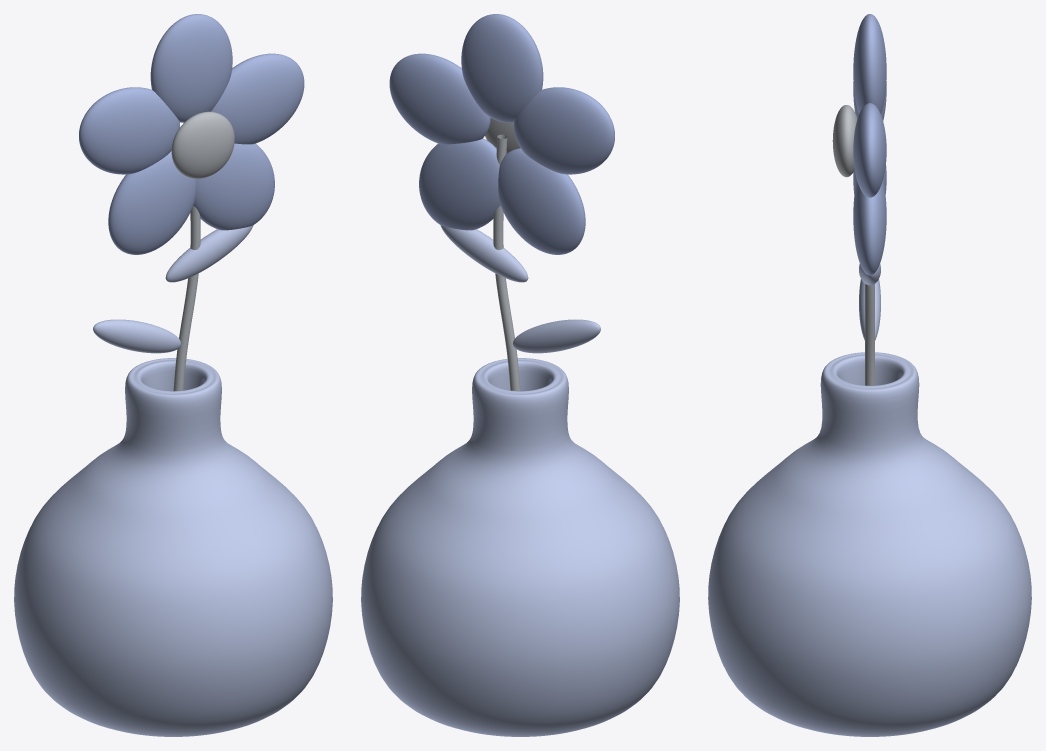
File: flower-vase.glb
The picture shows the model from 3 angles, left to right: view 1: azimuth 30°, elevation 25°; view 2: azimuth 150°, elevation 25°; view 3: azimuth 270°, elevation 25°; orthographic projection.
Parts seen in each view (by area): view 1: sculpted-surface, stem-and-leaves-/-curved-ceramic-petals-/-flower-center-009, stem-and-leaves-/-curved-ceramic-petals-/-flower-center-005, stem-and-leaves-/-curved-ceramic-petals-/-flower-center-008, stem-and-leaves-/-curved-ceramic-petals-/-flower-center-006, stem-and-leaves-/-curved-ceramic-petals-/-flower-center-007, stem-and-leaves-/-curved-ceramic-petals-/-flower-center-010, stem-and-leaves-/-curved-ceramic-petals-/-flower-center-003, stem-and-leaves-/-curved-ceramic-petals-/-flower-center-004, stem-and-leaves-/-curved-ceramic-petals-/-flower-center-002; view 2: sculpted-surface, stem-and-leaves-/-curved-ceramic-petals-/-flower-center-009, stem-and-leaves-/-curved-ceramic-petals-/-flower-center-005, stem-and-leaves-/-curved-ceramic-petals-/-flower-center-008, stem-and-leaves-/-curved-ceramic-petals-/-flower-center-006, stem-and-leaves-/-curved-ceramic-petals-/-flower-center-007, stem-and-leaves-/-curved-ceramic-petals-/-flower-center-003, stem-and-leaves-/-curved-ceramic-petals-/-flower-center-004, stem-and-leaves-/-curved-ceramic-petals-/-flower-center-002, stem-and-leaves-/-curved-ceramic-petals-/-flower-center-010; view 3: sculpted-surface, stem-and-leaves-/-curved-ceramic-petals-/-flower-center-005, stem-and-leaves-/-curved-ceramic-petals-/-flower-center-006, stem-and-leaves-/-curved-ceramic-petals-/-flower-center-007, stem-and-leaves-/-curved-ceramic-petals-/-flower-center-010, stem-and-leaves-/-curved-ceramic-petals-/-flower-center-002, stem-and-leaves-/-curved-ceramic-petals-/-flower-center-003.
Boxes of the visible parts, box(x1,y1,x2,y2) form: sculpted-surface: box(14, 358, 332, 736); stem-and-leaves-/-curved-ceramic-petals-/-flower-center-009: box(79, 87, 179, 174); stem-and-leaves-/-curved-ceramic-petals-/-flower-center-005: box(150, 14, 232, 122); stem-and-leaves-/-curved-ceramic-petals-/-flower-center-008: box(108, 151, 195, 254); stem-and-leaves-/-curved-ceramic-petals-/-flower-center-006: box(211, 53, 304, 144); stem-and-leaves-/-curved-ceramic-petals-/-flower-center-007: box(193, 143, 274, 230); stem-and-leaves-/-curved-ceramic-petals-/-flower-center-010: box(171, 111, 234, 178); stem-and-leaves-/-curved-ceramic-petals-/-flower-center-003: box(93, 319, 180, 353); stem-and-leaves-/-curved-ceramic-petals-/-flower-center-004: box(165, 225, 253, 282); stem-and-leaves-/-curved-ceramic-petals-/-flower-center-002: box(173, 206, 200, 391); sculpted-surface: box(361, 358, 679, 736); stem-and-leaves-/-curved-ceramic-petals-/-flower-center-009: box(514, 87, 614, 174); stem-and-leaves-/-curved-ceramic-petals-/-flower-center-005: box(461, 14, 543, 122); stem-and-leaves-/-curved-ceramic-petals-/-flower-center-008: box(498, 148, 585, 254); stem-and-leaves-/-curved-ceramic-petals-/-flower-center-006: box(389, 53, 490, 144); stem-and-leaves-/-curved-ceramic-petals-/-flower-center-007: box(419, 138, 500, 230); stem-and-leaves-/-curved-ceramic-petals-/-flower-center-003: box(513, 319, 600, 353); stem-and-leaves-/-curved-ceramic-petals-/-flower-center-004: box(440, 225, 528, 282); stem-and-leaves-/-curved-ceramic-petals-/-flower-center-002: box(493, 134, 520, 391); stem-and-leaves-/-curved-ceramic-petals-/-flower-center-010: box(485, 118, 520, 153); sculpted-surface: box(708, 352, 1031, 736); stem-and-leaves-/-curved-ceramic-petals-/-flower-center-005: box(853, 14, 886, 113); stem-and-leaves-/-curved-ceramic-petals-/-flower-center-006: box(853, 103, 886, 197); stem-and-leaves-/-curved-ceramic-petals-/-flower-center-007: box(853, 180, 886, 275); stem-and-leaves-/-curved-ceramic-petals-/-flower-center-010: box(832, 105, 857, 177); stem-and-leaves-/-curved-ceramic-petals-/-flower-center-002: box(865, 284, 874, 385); stem-and-leaves-/-curved-ceramic-petals-/-flower-center-003: box(859, 279, 880, 340).
Size of the model in its own units: 0.8489 by 2 by 0.8489.
